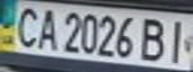0: (78, 10, 100, 55)
2: (96, 11, 121, 58), (57, 8, 81, 55)
6: (115, 12, 142, 60)
A: (33, 6, 60, 51)
B: (136, 15, 172, 62)
C: (9, 3, 42, 48)
I: (160, 16, 193, 64)
